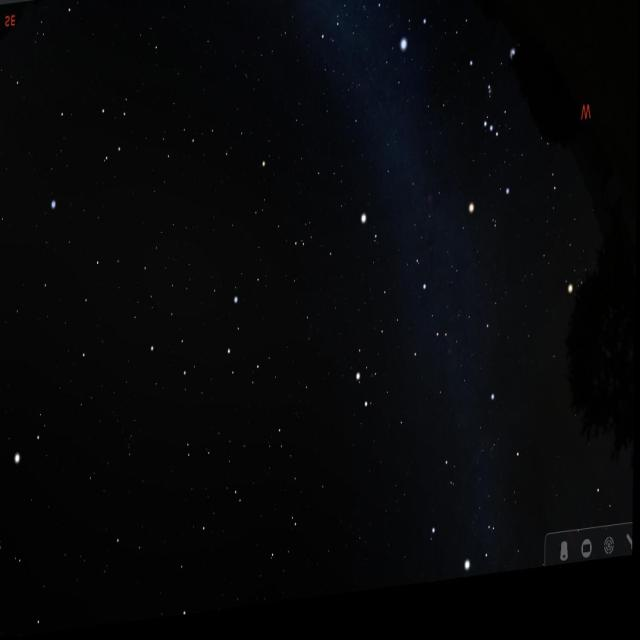bootes: (0, 436, 69, 640)
canis_major: (357, 0, 435, 63)
canis_minor: (358, 208, 391, 268)
gemini: (354, 274, 446, 424)
leo: (148, 266, 272, 417)
orion: (457, 50, 522, 252)
